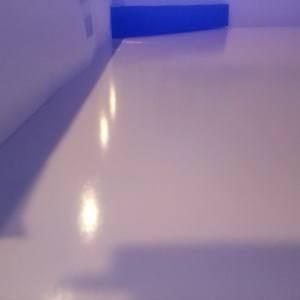zone: (111, 3, 230, 40)
